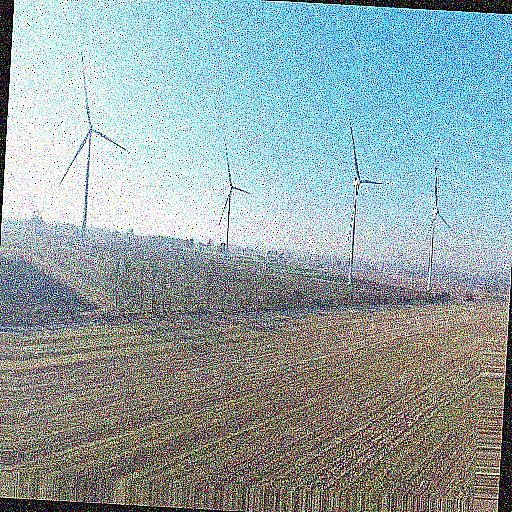wind turbine: (57, 55, 128, 226), (342, 121, 384, 282), (419, 161, 452, 288), (215, 142, 251, 244)
